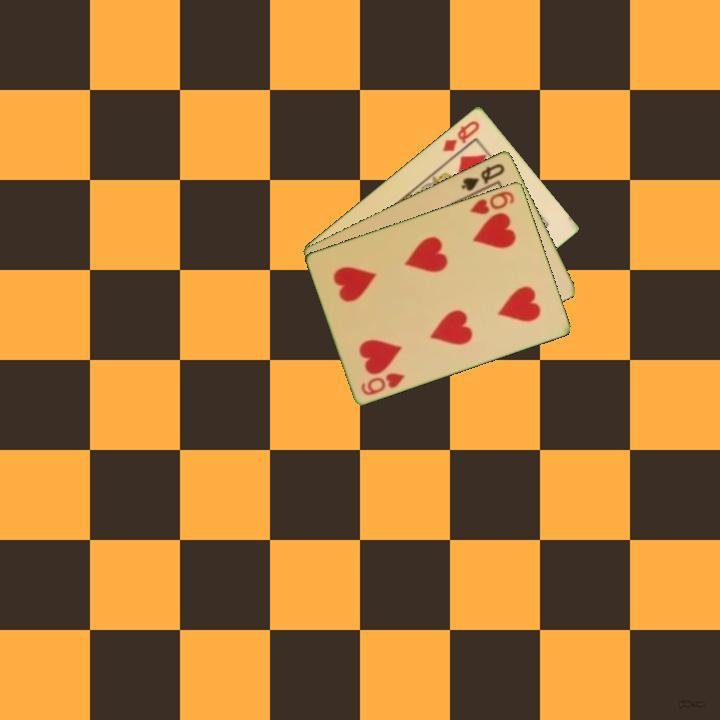6h: (466, 187, 517, 217), (357, 369, 408, 398)
Qd: (439, 116, 483, 154)
Qs: (458, 160, 508, 194)
